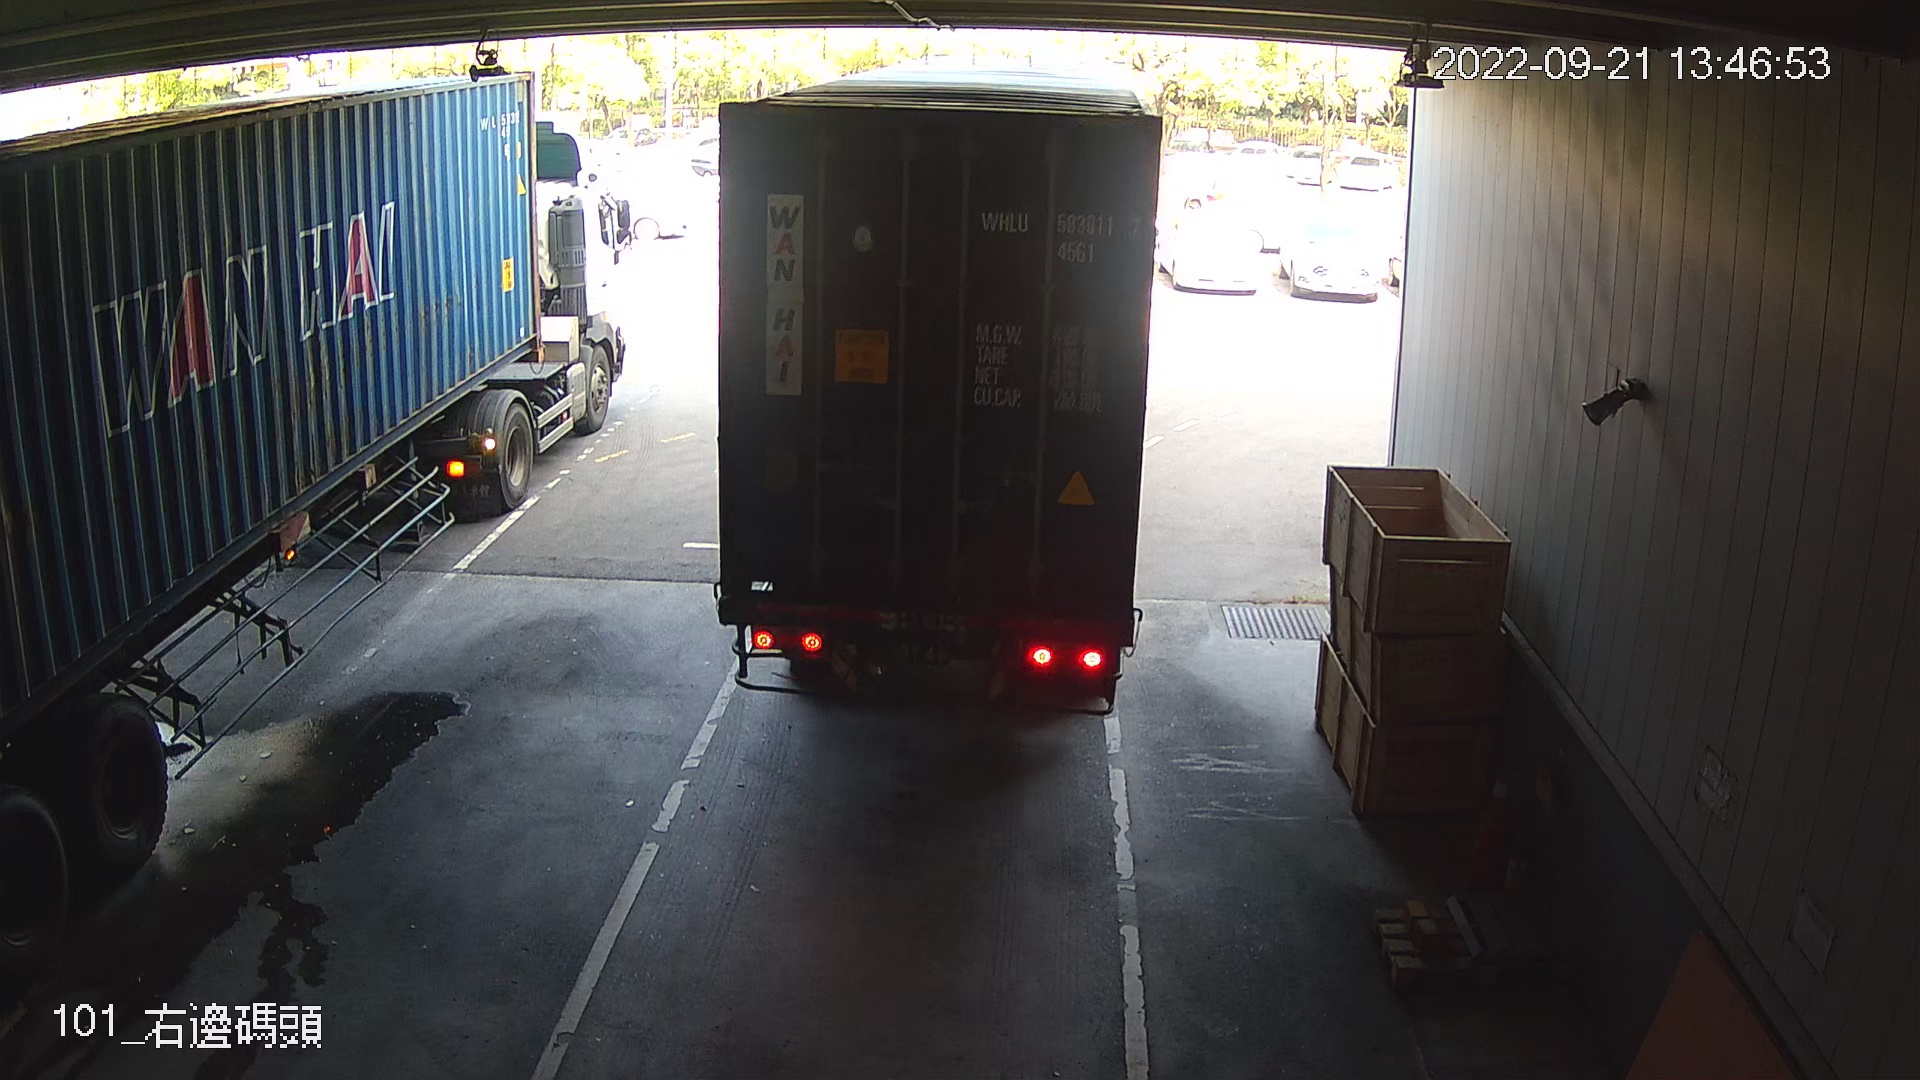container: (971, 200, 1149, 270)
